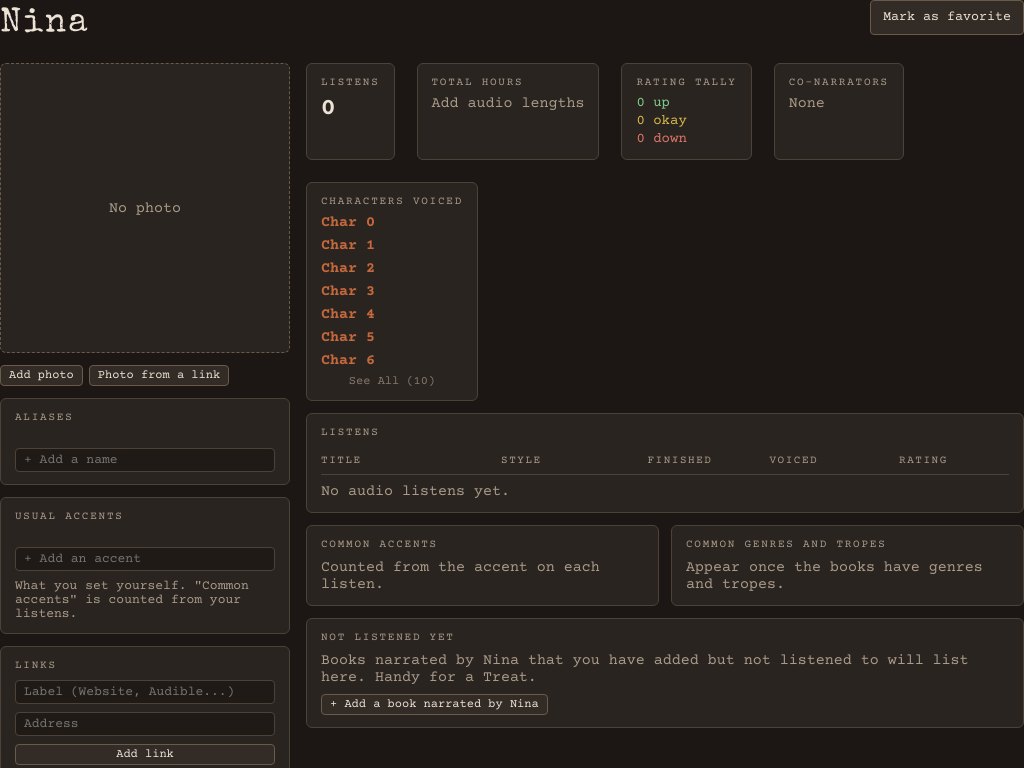
it: characters voiced › truncates a long list and opens the full one in a window
Expected: the text "Char 7" is not shown
Click the button "See All (10)": (392, 382) [321,375,463,388]
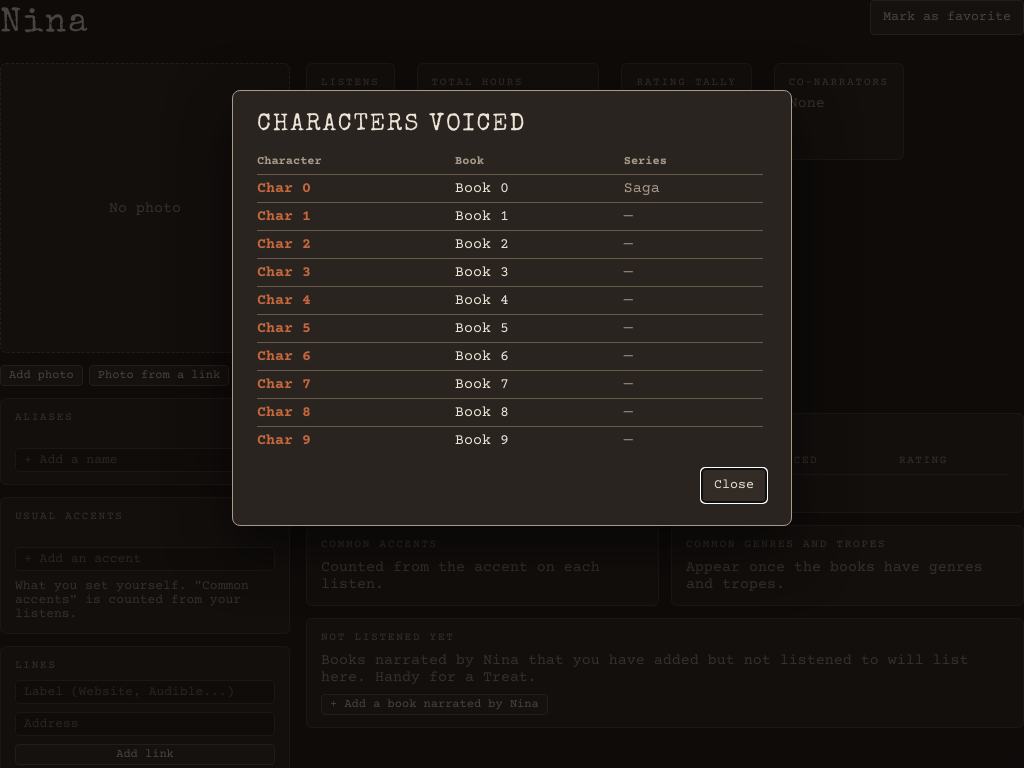
Expected: the link "Char 9" is shown, [257,432,311,449]
Expected: the text "Book 0" is shown, [455,174,624,202]
Expected: the text "Saga" is shown, [624,174,763,202]
